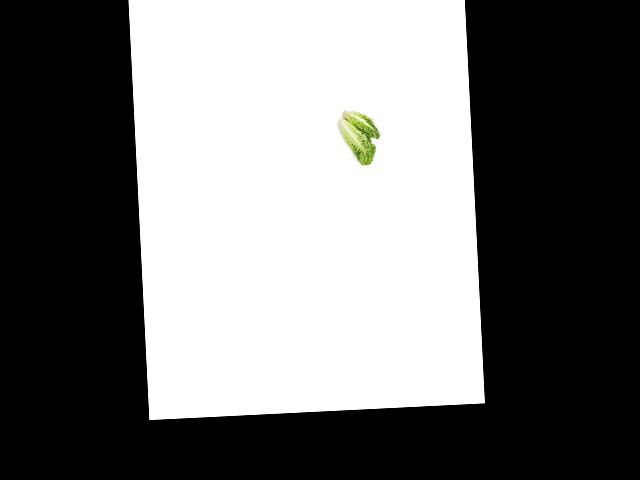lettuce: (335, 120, 378, 167)
